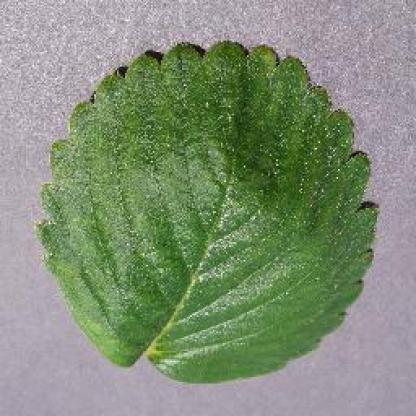healthy: (30, 29, 392, 395)
